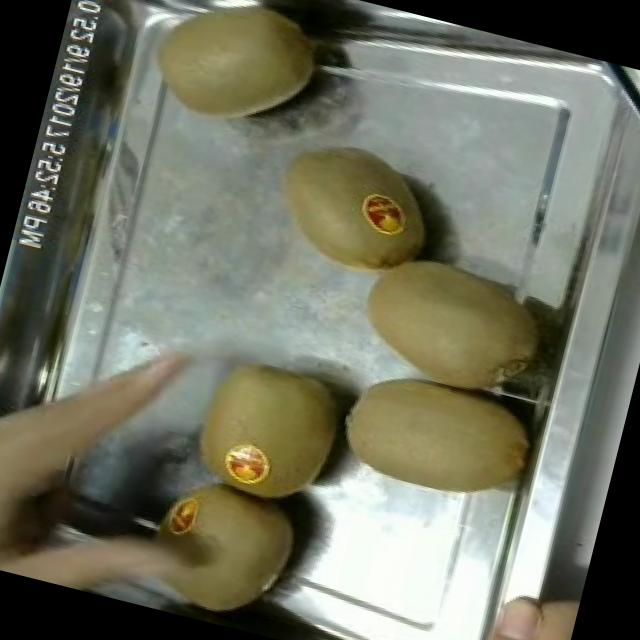Fruit: (57, 442, 318, 640), (341, 232, 572, 408), (168, 330, 364, 520), (319, 358, 542, 524), (248, 123, 451, 301), (134, 0, 338, 153), (450, 552, 585, 640)
